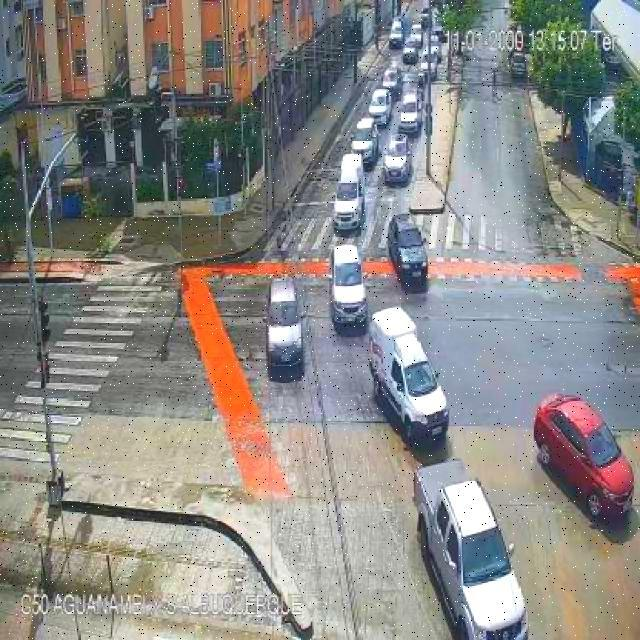Car: (533, 394, 634, 520), (265, 278, 306, 378), (329, 244, 368, 331), (384, 214, 428, 290), (382, 134, 412, 184), (350, 121, 379, 168), (368, 87, 394, 126), (397, 96, 421, 133), (381, 66, 402, 97), (401, 72, 422, 100), (419, 55, 439, 81), (510, 52, 528, 79), (428, 32, 442, 59)
Truck: (411, 460, 524, 639), (368, 306, 454, 448), (334, 154, 368, 232)
